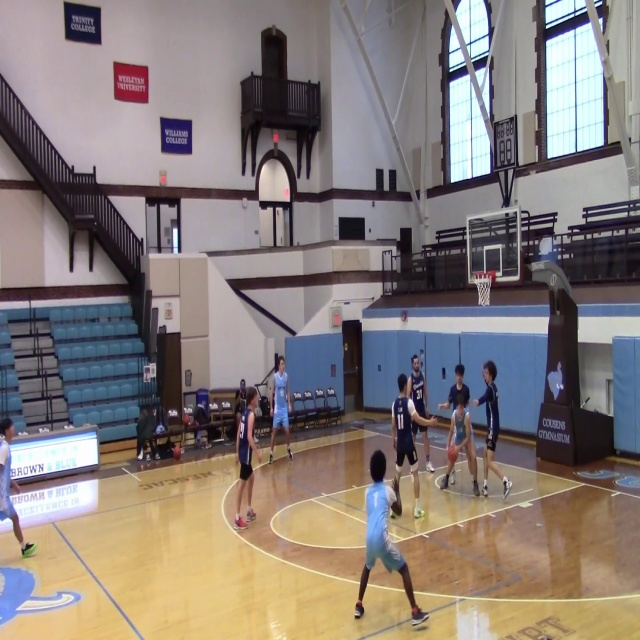Basketball: (447, 445, 459, 462), (454, 408, 464, 422), (173, 447, 181, 460)
